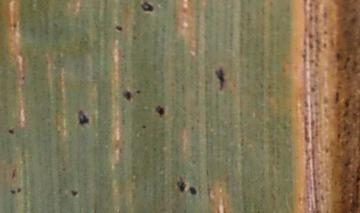tarspot: (214, 67, 225, 91), (76, 108, 90, 125), (177, 176, 186, 193), (141, 1, 154, 12), (155, 104, 165, 116), (122, 89, 131, 101), (333, 90, 341, 103), (69, 187, 78, 198), (188, 185, 197, 196), (344, 97, 351, 108), (334, 51, 341, 62), (7, 126, 15, 135), (11, 167, 17, 179), (113, 24, 123, 31), (11, 21, 18, 29), (134, 87, 141, 95), (139, 123, 147, 130), (345, 128, 352, 136), (335, 131, 342, 139), (345, 53, 351, 62), (19, 74, 26, 81), (342, 161, 350, 167), (9, 188, 16, 194), (354, 175, 360, 182), (17, 186, 22, 193)
